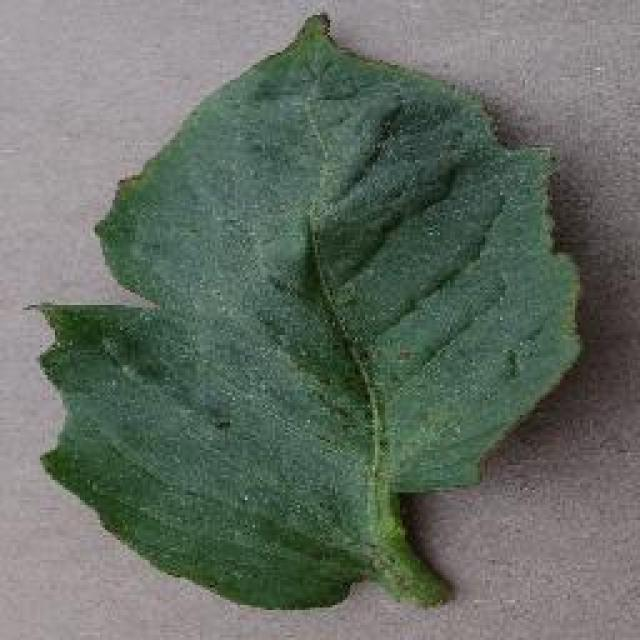Tomato___Bacterial_spot: (21, 8, 590, 619)
